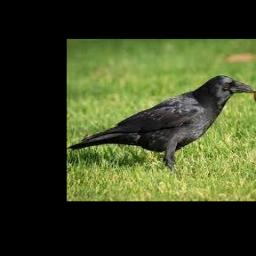Crow: (68, 74, 256, 171)
